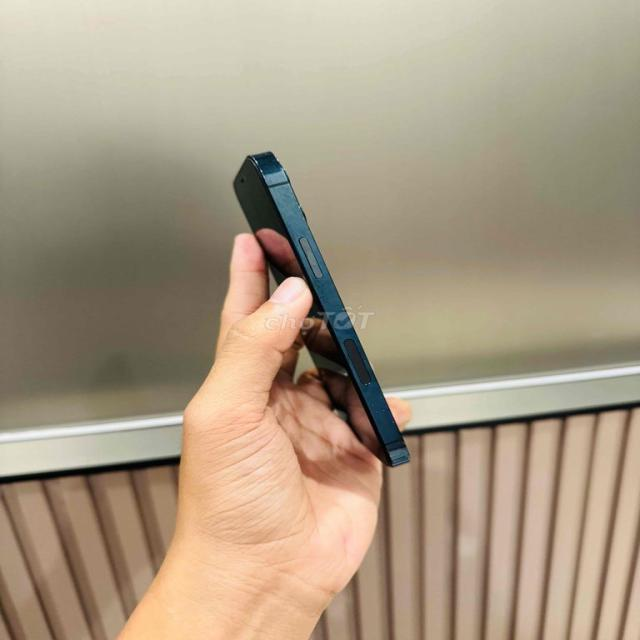gen_12_13: (232, 149, 429, 468)
